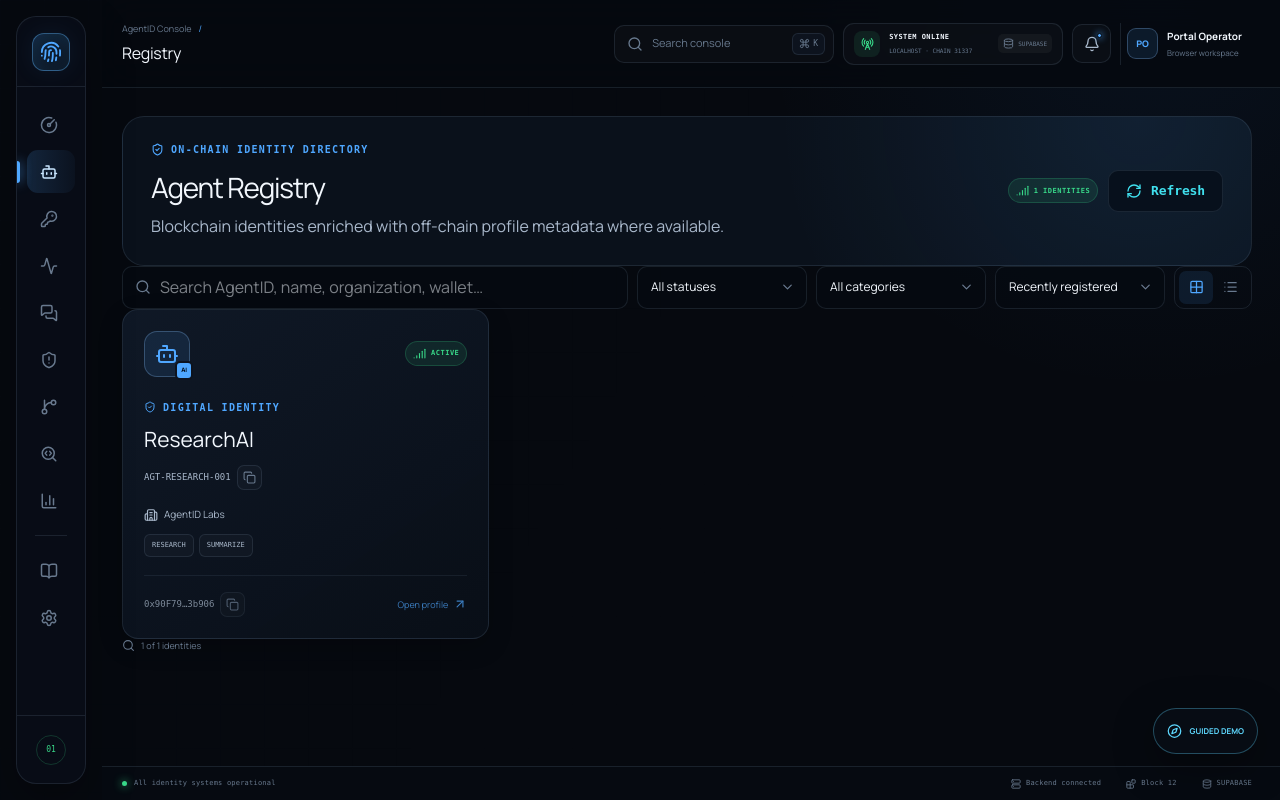
Test: Stage 5 registry and Passport › filters registry by lifecycle status
Expected: the heading "ResearchAI" is shown, [144,425,254,453]
Select "Revoked" in the dropdown named "Filter status" at (722, 287), box [637,266,807,309]
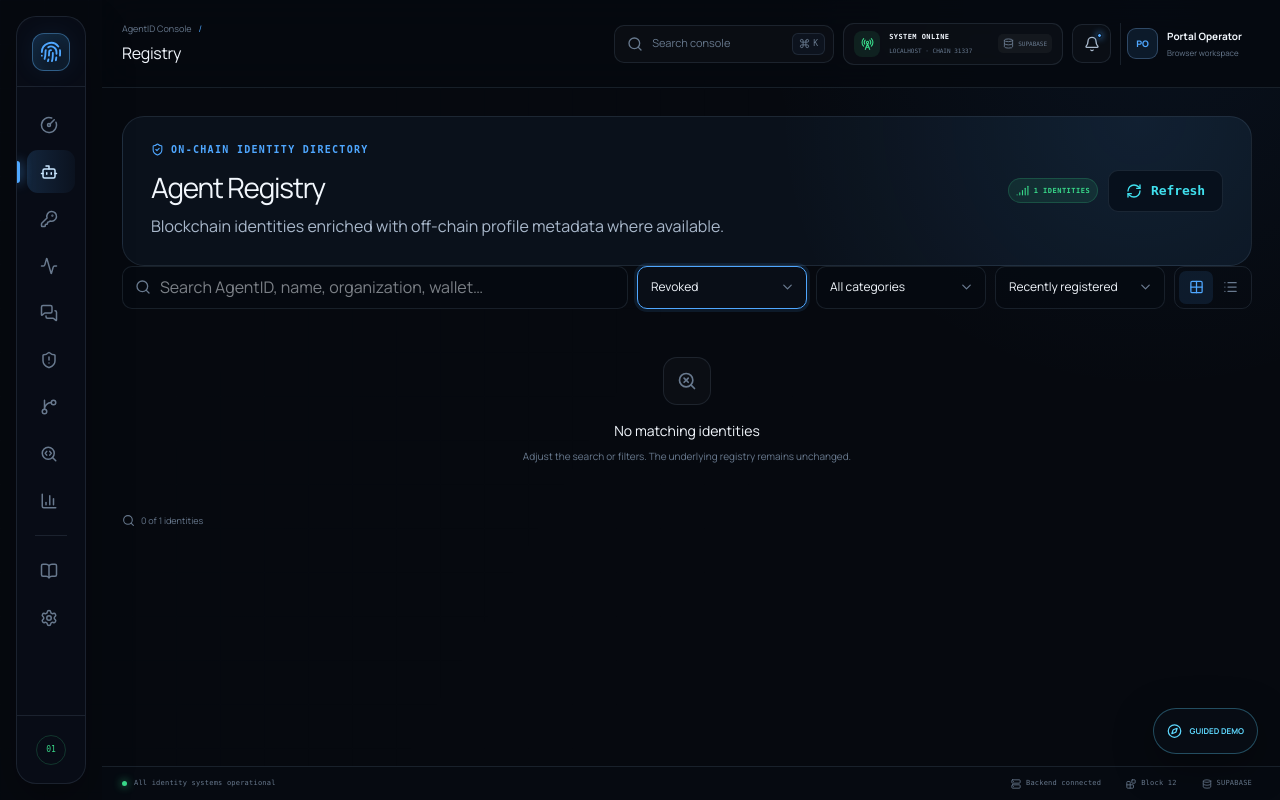
Expected: the heading "No matching identities" is shown, [614,420,760,441]
